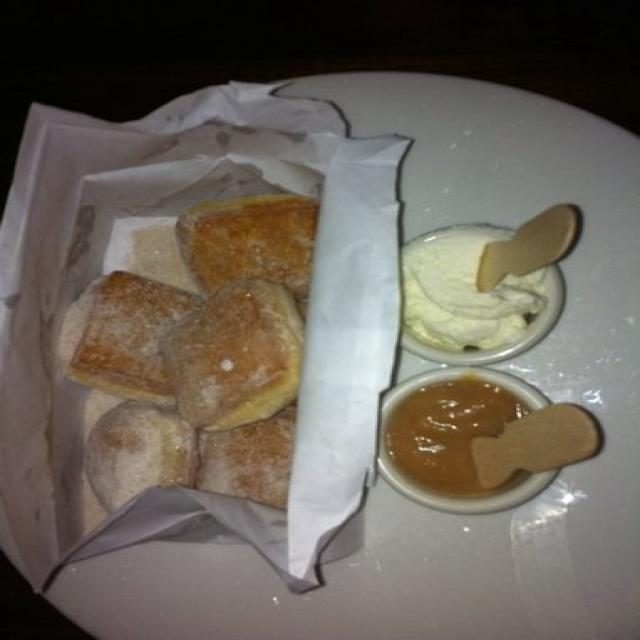Donuts: (39, 180, 321, 549)
